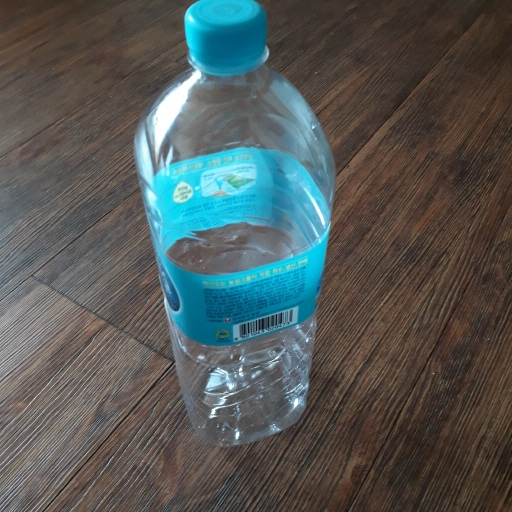Plastic_0: (133, 1, 338, 446)
